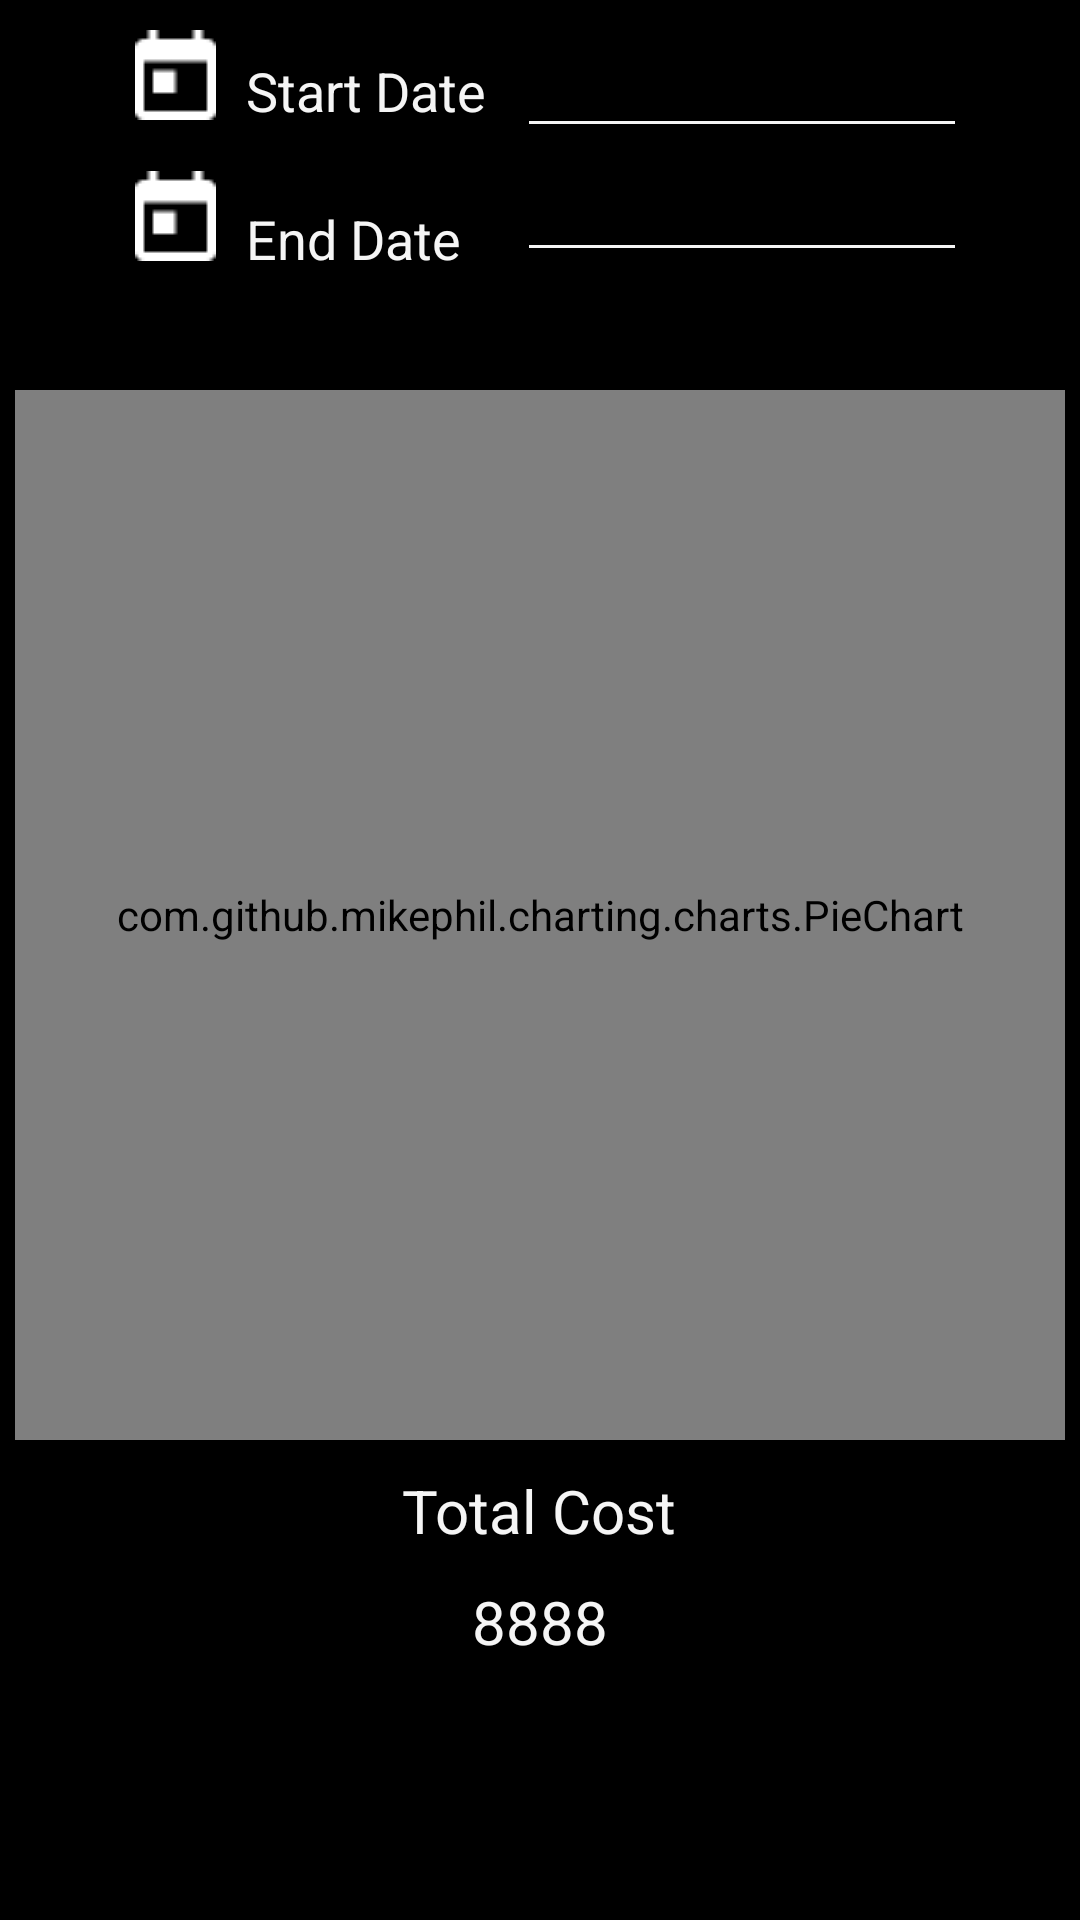

Where to tap for icons on this 1080 × 1920 app screen, as (x,y):
calender: (175,75), (175,216)
